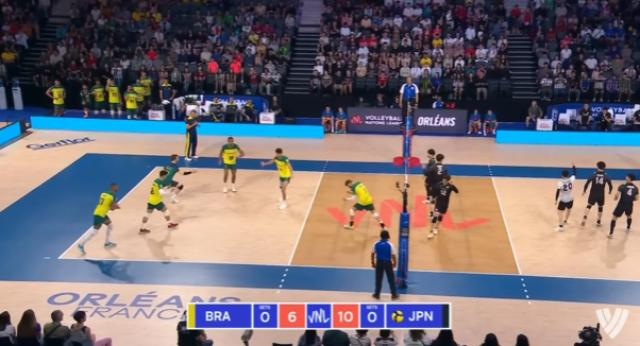Levantador: (336, 178, 394, 236), (422, 146, 438, 172)
Libero: (544, 160, 580, 236), (160, 147, 200, 201)
bola: (420, 57, 436, 73)
